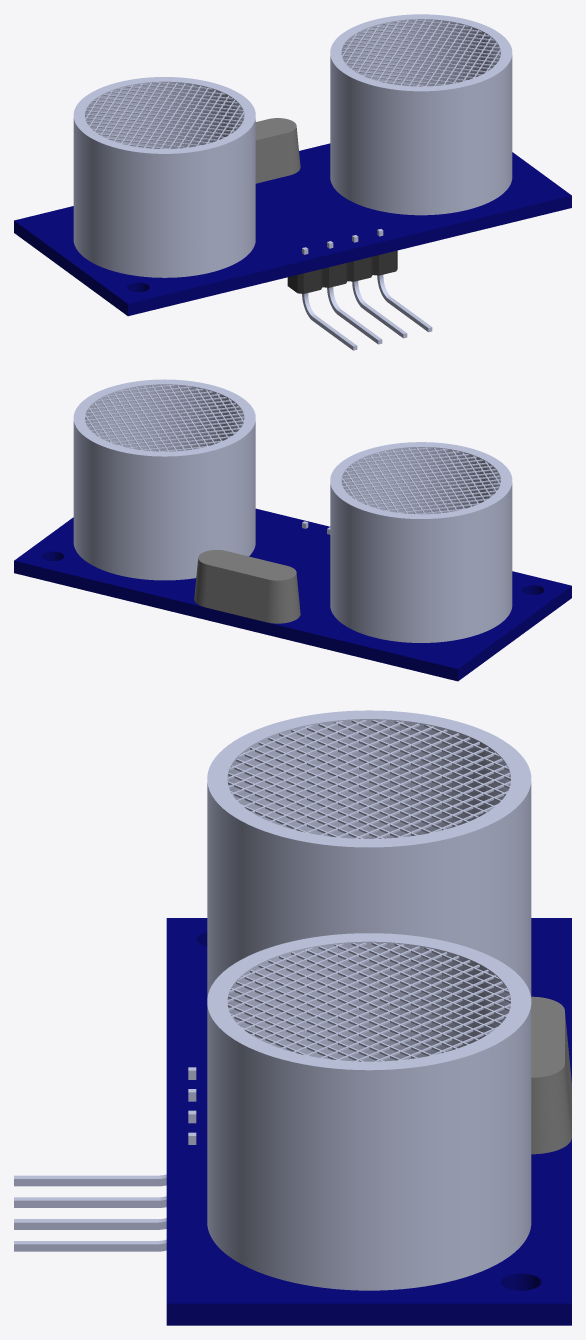
Rendered from sensor_ultrasonic.glb.
The picture shows the model from 3 angles, top to bottom: view 1: azimuth 30°, elevation 25°; view 2: azimuth 150°, elevation 25°; view 3: azimuth 270°, elevation 25°; orthographic projection. The views are drawn at different scales.
Bounding box in the file's own units: 0.045 × 0.0178 × 0.0275.
